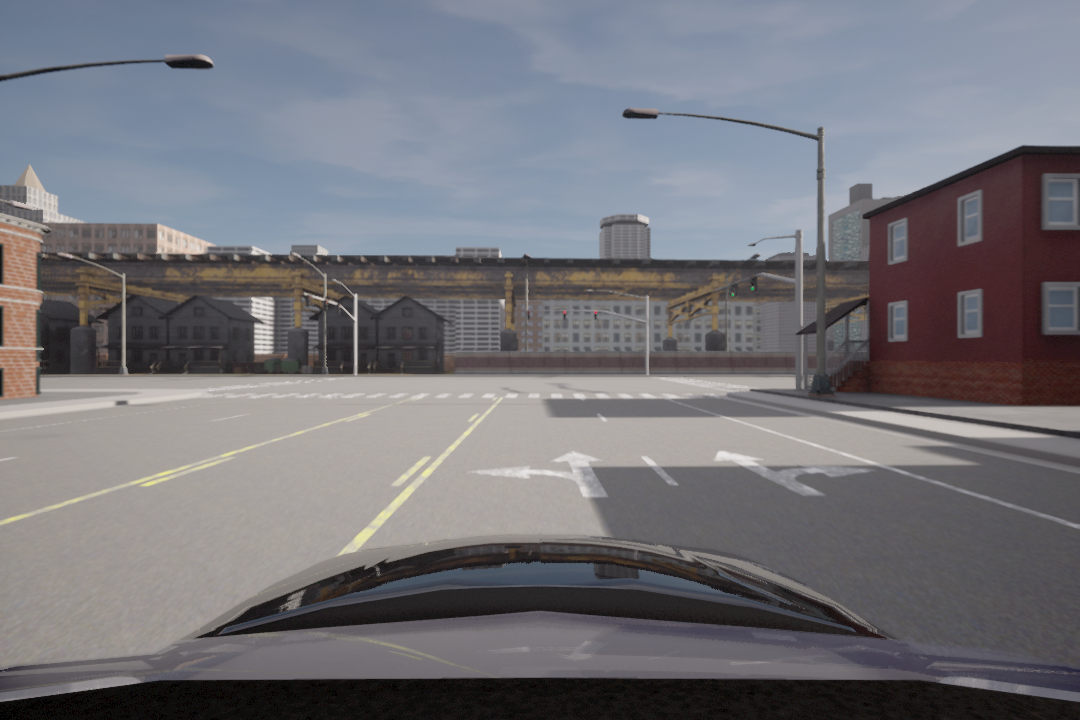RoadSign_forward_left: (463, 448, 624, 507)
RoadSign_forward_right: (711, 448, 884, 501)
walkside: (211, 391, 733, 404)
